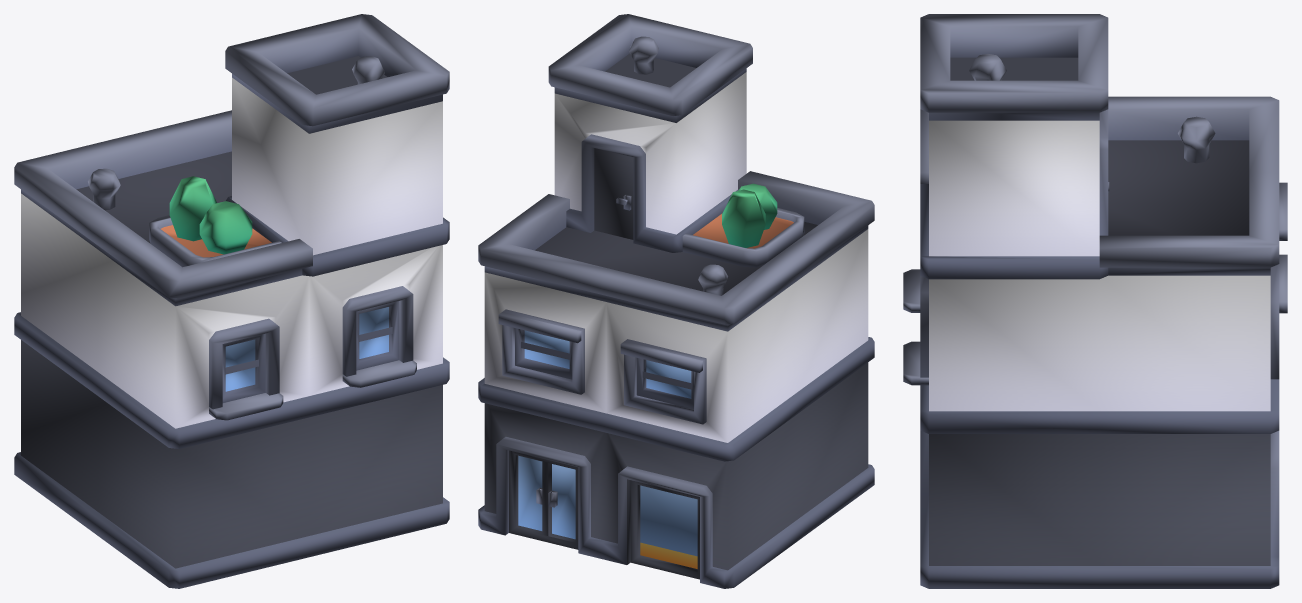
File: building-d_lev1.glb
The picture shows the model from 3 angles, left to right: view 1: azimuth 30°, elevation 25°; view 2: azimuth 150°, elevation 25°; view 3: azimuth 270°, elevation 25°; orthographic projection. The views are drawn at different scales.
Visible parts, largest first — view 1: building-d_lev1; view 2: building-d_lev1; view 3: building-d_lev1.
Part boxes in pixels (x1,y1,x2,y2): building-d_lev1: [14, 14, 449, 588]; building-d_lev1: [478, 14, 874, 588]; building-d_lev1: [903, 14, 1287, 588].
Bounding box in the file's own units: 0.84 × 1.29 × 0.9.
Materials: 1 (1 with a texture image).
